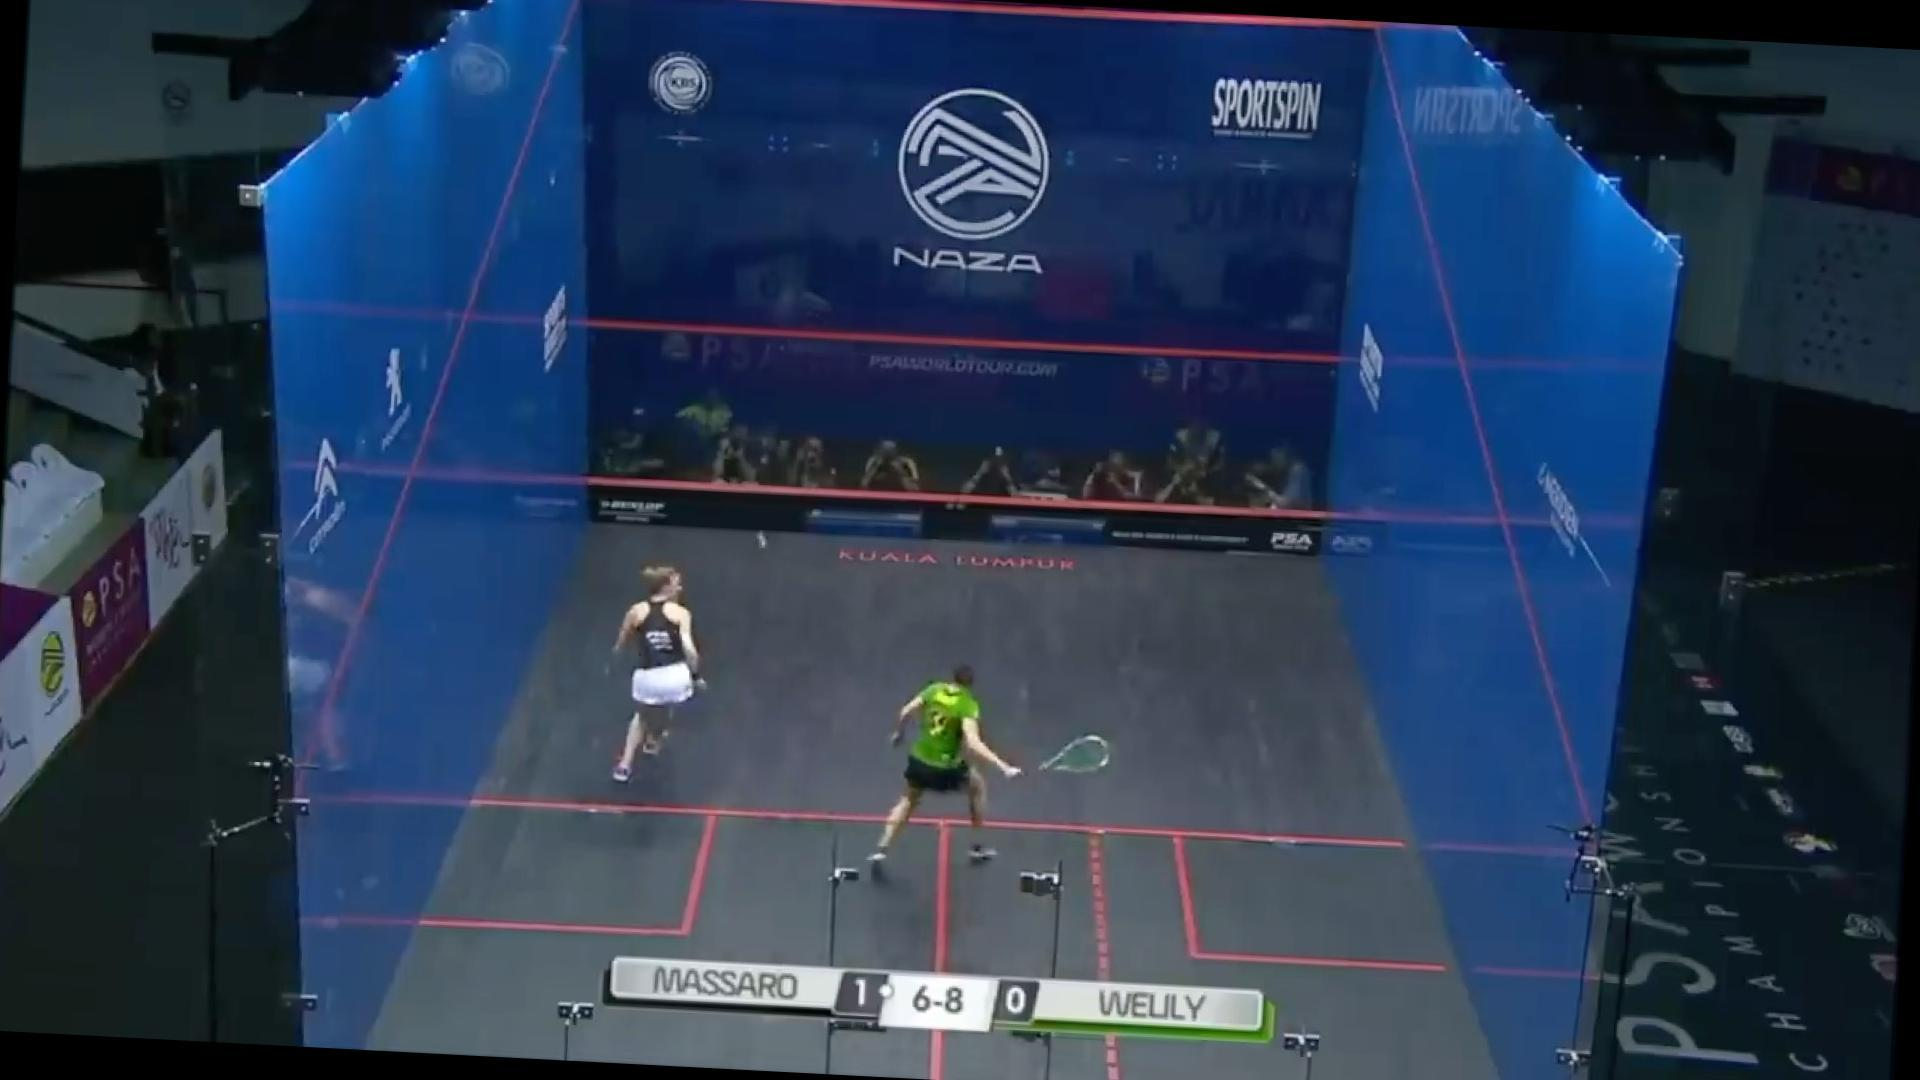Squash-Ball: (746, 512, 778, 558)
